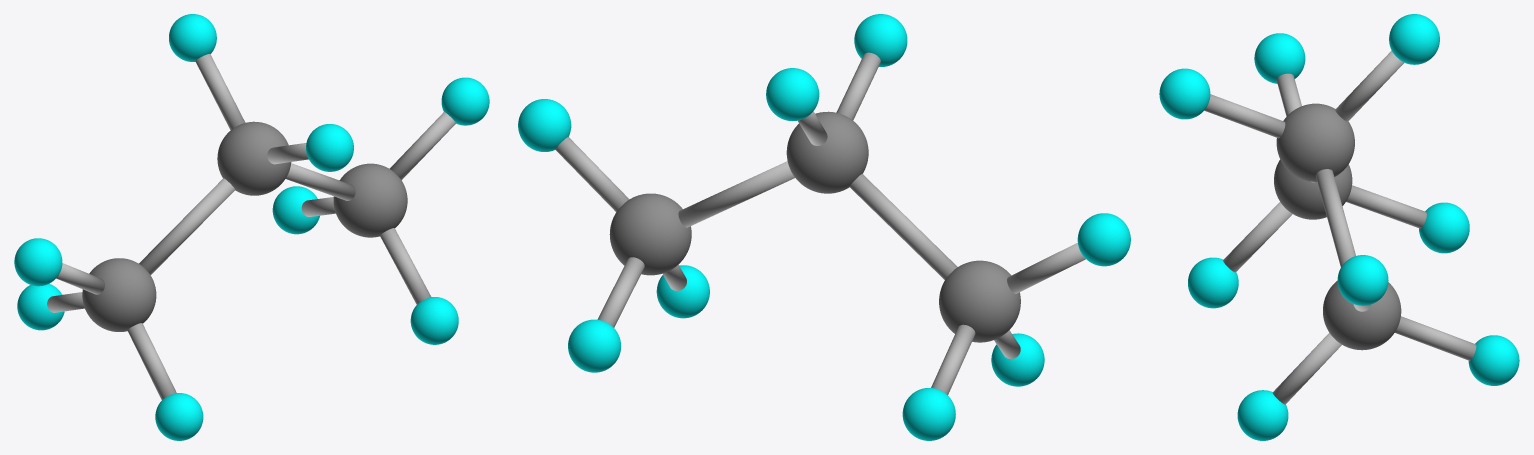
The model's file is propane.glb.
3 views of the same model, side by side, from view 1: azimuth 30°, elevation 25°; view 2: azimuth 150°, elevation 25°; view 3: azimuth 270°, elevation 25° (orthographic). The views are drawn at different scales.
Parts seen in each view (by area): view 1: CMAtom_0; view 2: CMAtom_0; view 3: CMAtom_0.
Part boxes in pixels (<box>): CMAtom_0: <box>14,14,489,440</box>; CMAtom_0: <box>518,14,1130,440</box>; CMAtom_0: <box>1159,14,1519,440</box>.
Bounding box in the file's own units: 0.4881 × 0.2998 × 0.2829.
